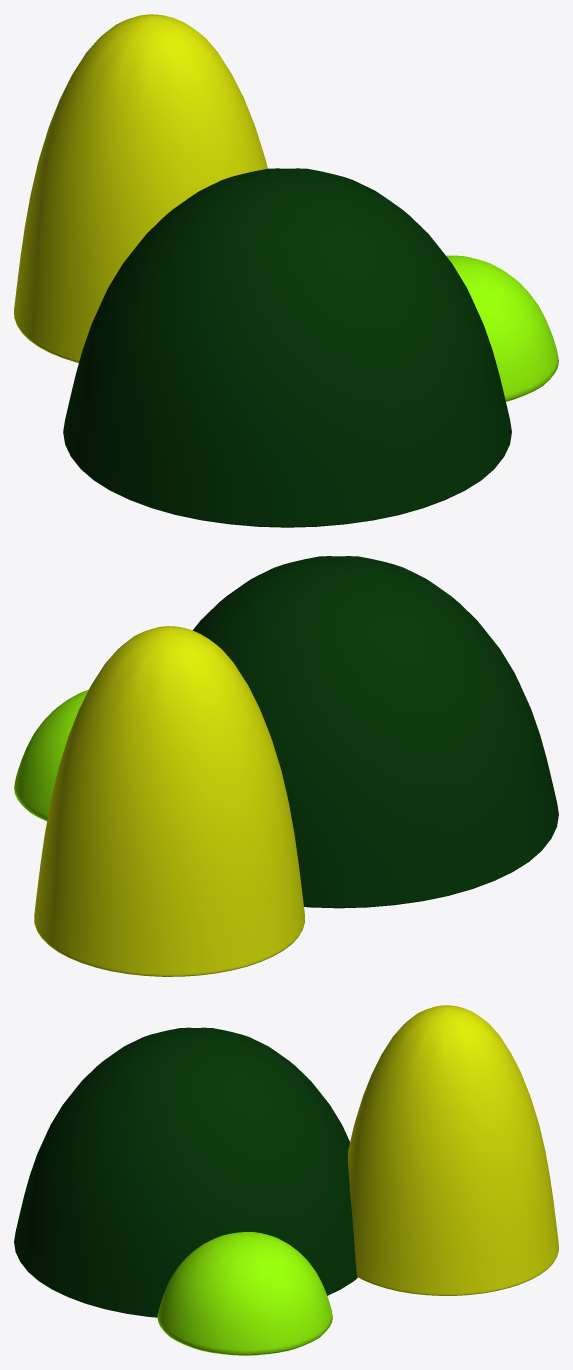
The model's file is l_krzak_duzy_2.fbx.
3 views of the same model, one above another, from view 1: azimuth 30°, elevation 25°; view 2: azimuth 150°, elevation 25°; view 3: azimuth 270°, elevation 25° (orthographic). The views are drawn at different scales.
Visible parts, largest first — view 1: krzak3, krzak2, krzak1; view 2: krzak3, krzak2, krzak1; view 3: krzak3, krzak2, krzak1.
Part boxes in pixels (x1,y1,x2,y2): krzak3: (63, 168, 511, 527); krzak2: (14, 14, 267, 362); krzak1: (446, 255, 558, 401); krzak3: (192, 556, 558, 908); krzak2: (34, 626, 304, 976); krzak1: (14, 689, 88, 821); krzak3: (14, 1027, 357, 1317); krzak2: (347, 1005, 558, 1295); krzak1: (157, 1232, 332, 1355).
Bounding box in the file's own units: 9.05 × 10.92 × 5.37.
